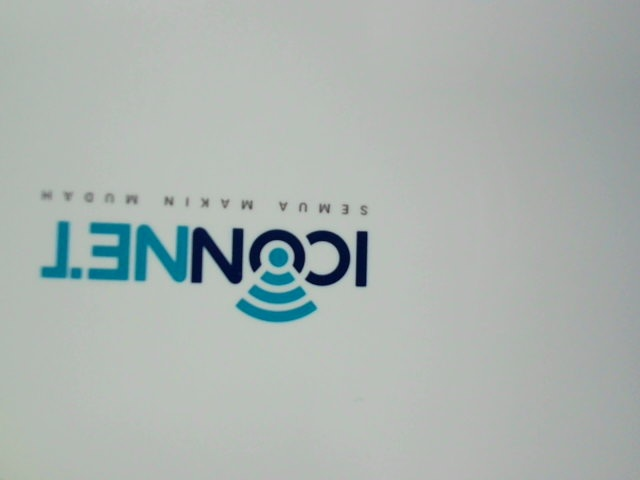BM_ICONNET: (32, 173, 387, 340)
